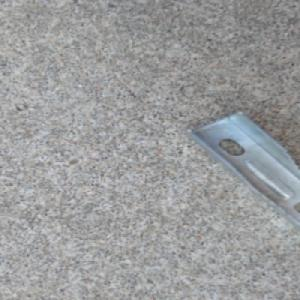ClampPart: (183, 109, 300, 233)
